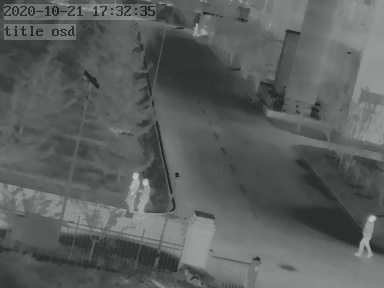person: (357, 212, 375, 256), (139, 175, 154, 217), (125, 172, 139, 216), (191, 22, 199, 36)
